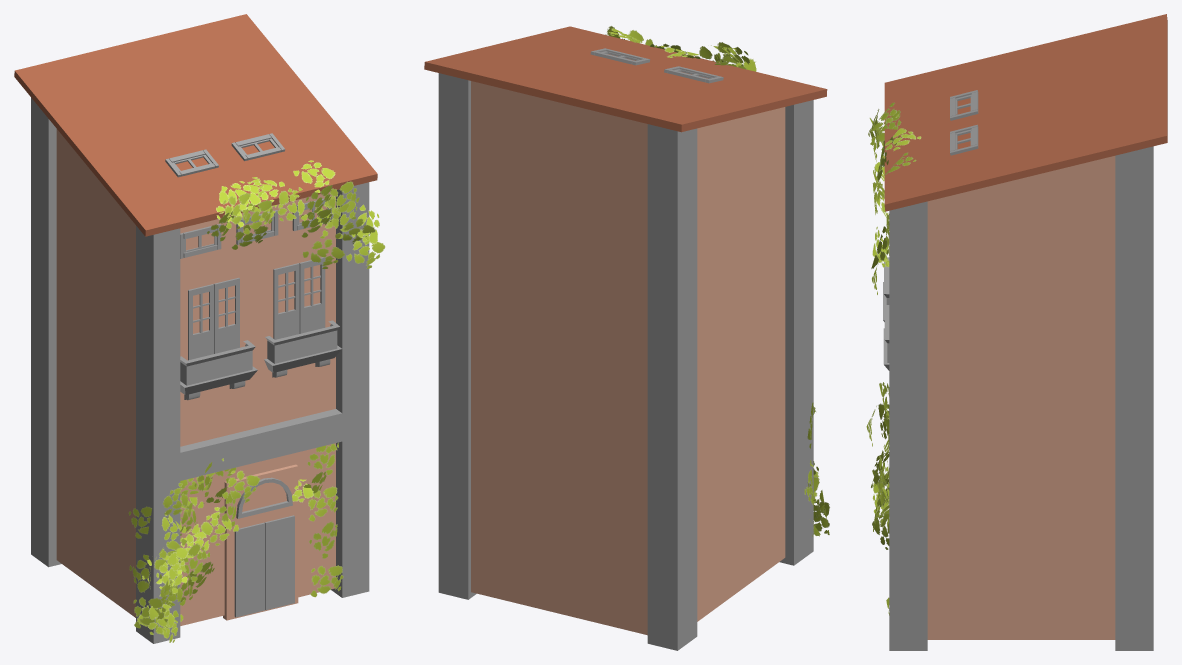
Rendered from DowntownHouse3_Low.fbx.
The picture shows the model from 3 angles, left to right: view 1: azimuth 30°, elevation 25°; view 2: azimuth 150°, elevation 25°; view 3: azimuth 270°, elevation 25°; orthographic projection. The views are drawn at different scales.
Parts seen in each view (by area): view 1: Door9, polySurface81; view 2: Door9, polySurface81; view 3: Door9, polySurface81.
Boxes of the visible parts, x1,y1,x2,y2 form: Door9: [31, 97, 385, 643]; polySurface81: [14, 14, 377, 236]; Door9: [438, 26, 829, 650]; polySurface81: [424, 26, 827, 132]; Door9: [866, 90, 1153, 650]; polySurface81: [884, 14, 1167, 211].
Bounding box in the file's own units: 28.21 × 52.45 × 27.23.
